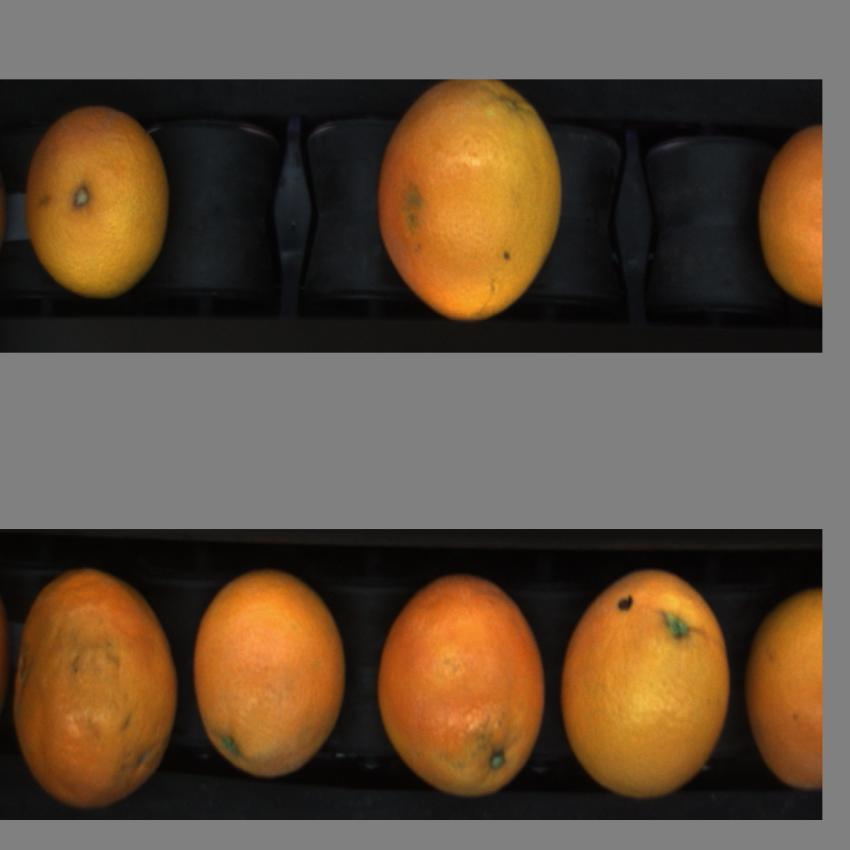Buen estado: (368, 82, 570, 326), (559, 568, 736, 800), (366, 578, 554, 796), (189, 567, 353, 782), (21, 100, 176, 306), (742, 586, 824, 814), (755, 114, 824, 323)
Mal estado: (7, 570, 178, 808)
